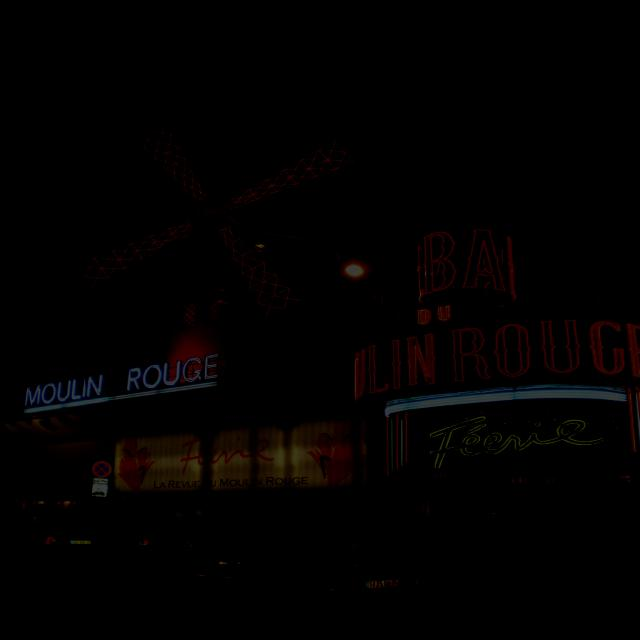Car: (10, 506, 444, 630)
